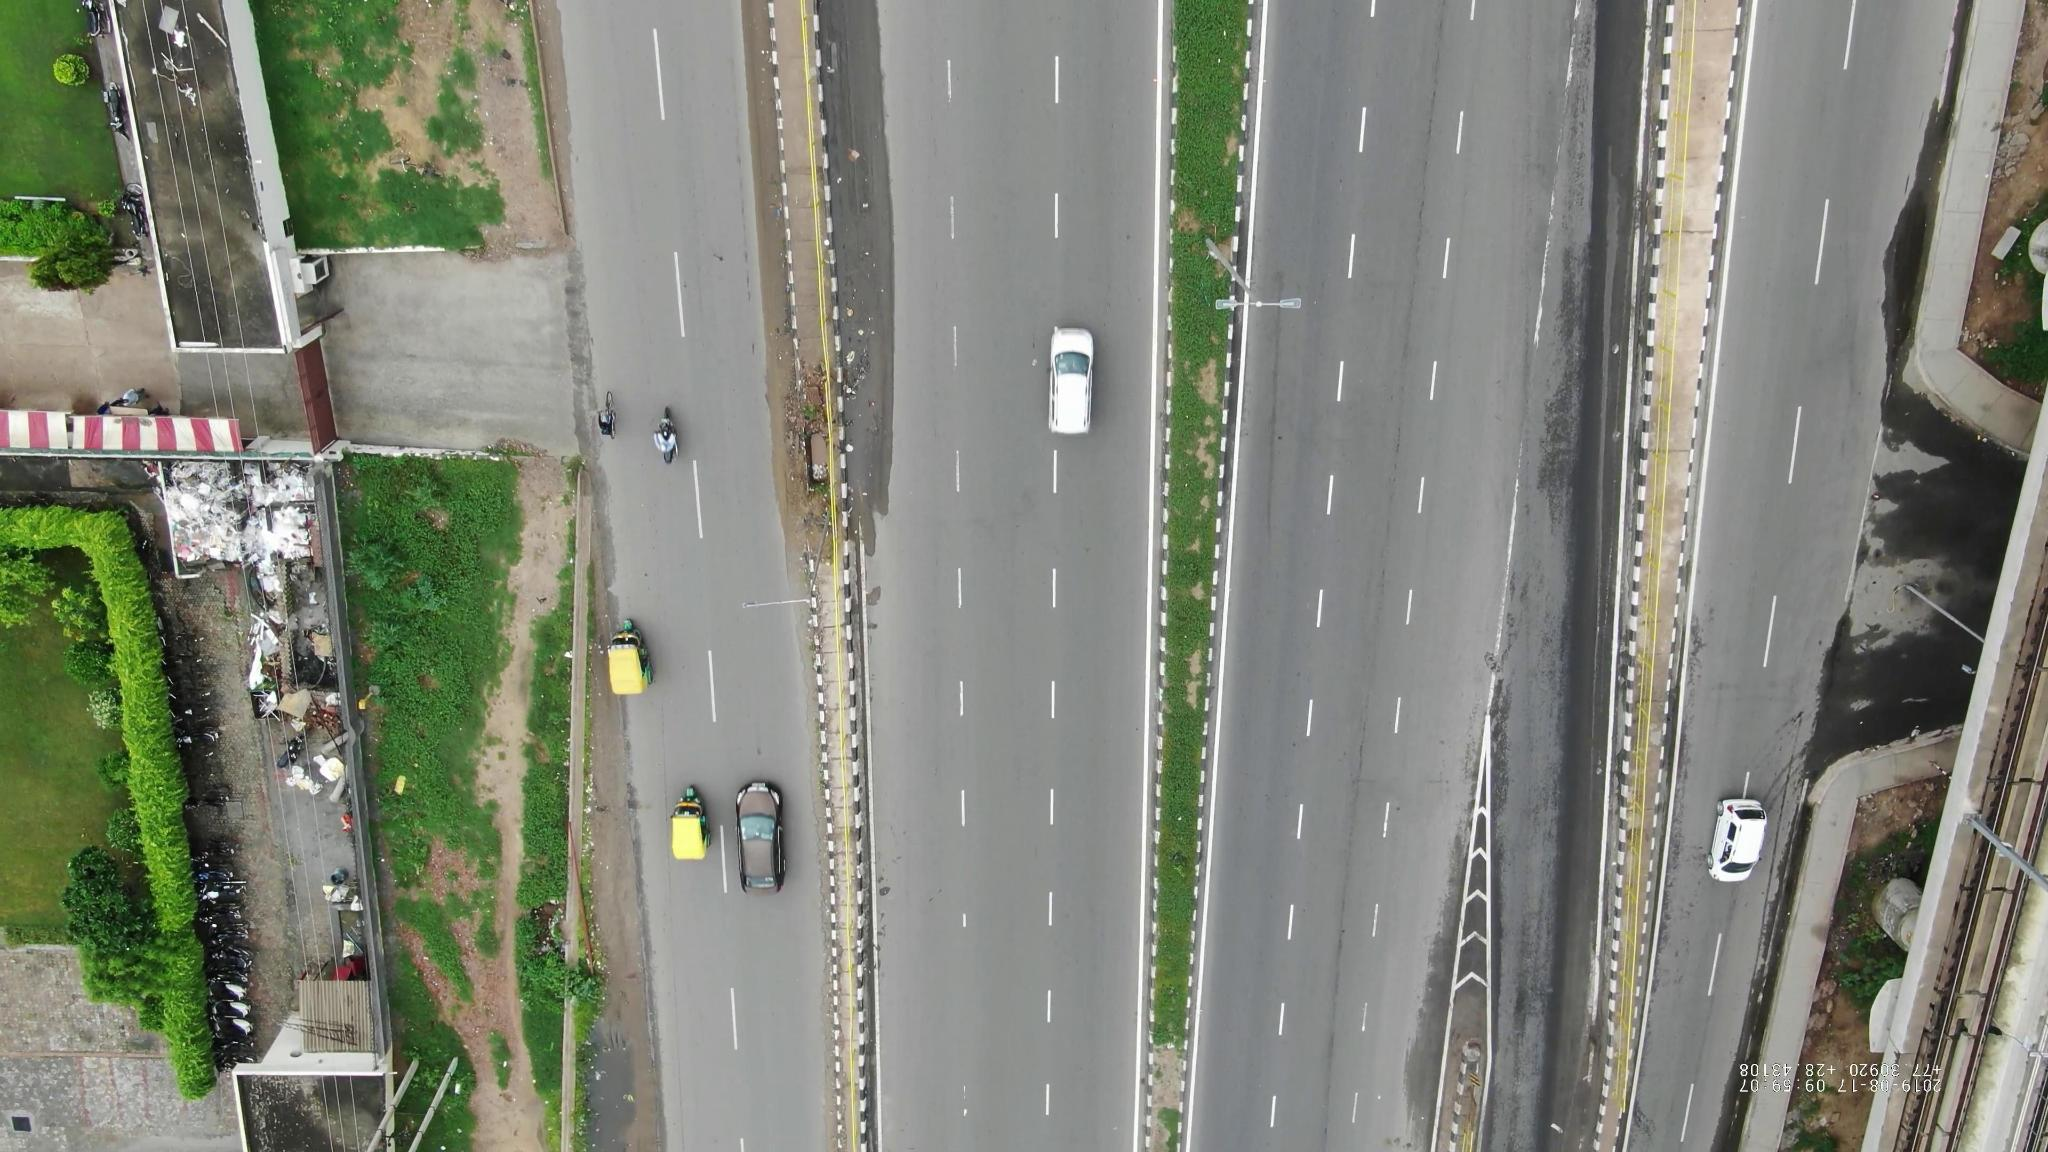Muddy_road: (757, 338, 833, 522), (525, 1, 577, 191)
Waterlogging: (574, 897, 660, 1139)
